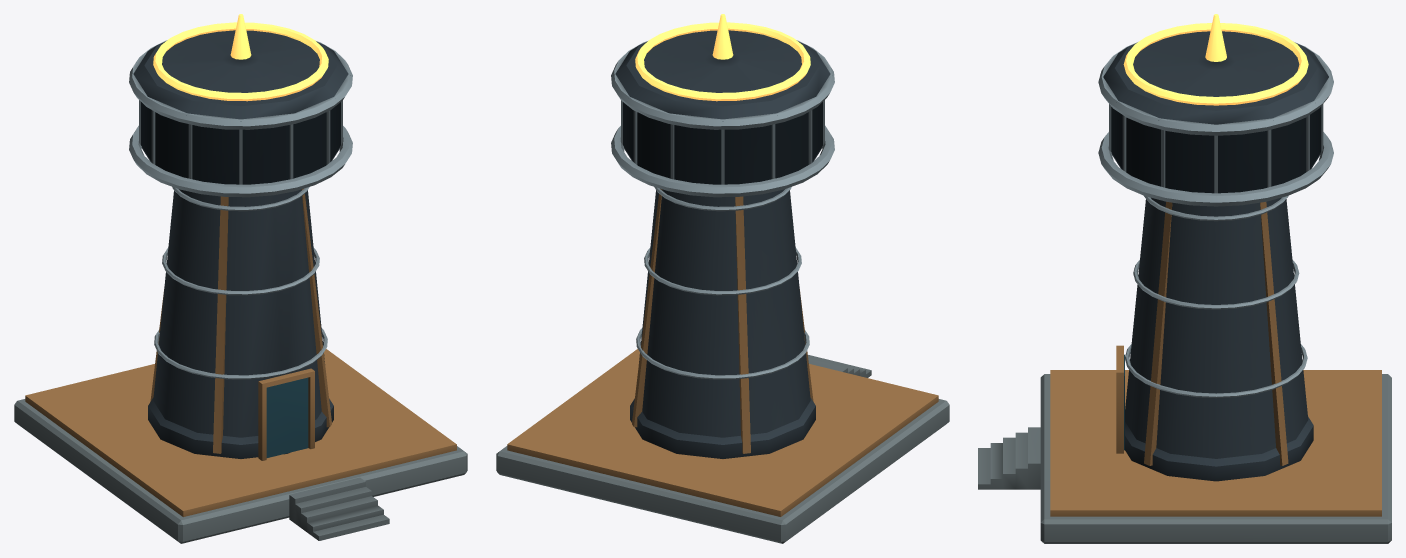
Rendered from operations-beacon.lod1.glb.
3 views of the same model, side by side, from view 1: azimuth 30°, elevation 25°; view 2: azimuth 150°, elevation 25°; view 3: azimuth 270°, elevation 25° (orthographic). The views are drawn at different scales.
Parts seen in each view (by area): view 1: structure, signal; view 2: structure, signal; view 3: structure, signal.
Part boxes in pixels (x1,y1,x2,y2): structure: (14, 30, 467, 543); signal: (153, 14, 328, 101); structure: (496, 30, 949, 543); signal: (635, 14, 810, 101); structure: (978, 31, 1391, 543); signal: (1123, 14, 1308, 105).
Size of the model in its own units: 9 by 12.9 by 10.6.
